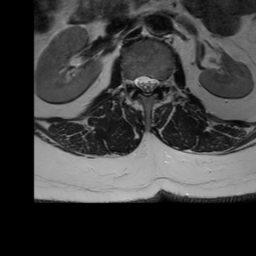CCS_normal: (142, 68, 150, 102)
LFS_stenosis: (158, 71, 167, 94)
LLS_stenosis: (150, 70, 158, 94)
RFS_normal: (127, 70, 134, 94)
RLS_normal: (134, 69, 142, 94)
